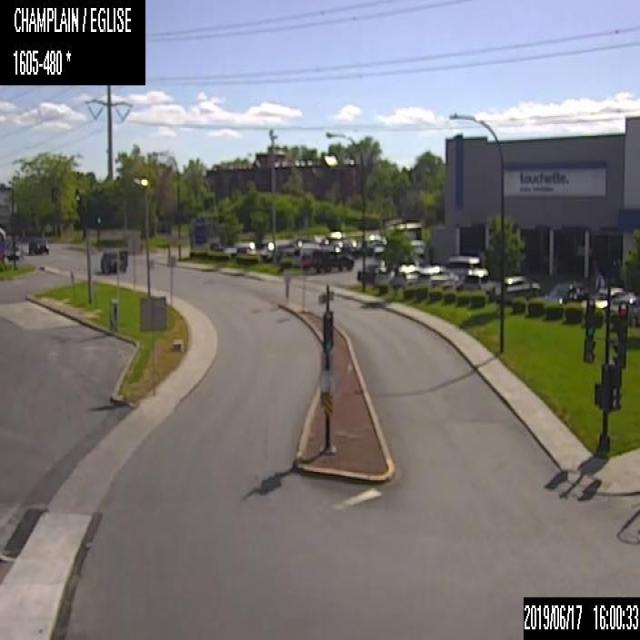pedestrian: (595, 269, 604, 290)
vehicle: (582, 284, 624, 312), (542, 280, 588, 305), (312, 244, 353, 272), (446, 255, 488, 280), (503, 274, 541, 300), (463, 267, 494, 297), (611, 292, 639, 324), (429, 268, 463, 291), (100, 248, 127, 272), (414, 264, 443, 286), (392, 264, 419, 287), (375, 262, 402, 284), (299, 242, 319, 266), (251, 239, 272, 260), (274, 240, 294, 262), (356, 262, 378, 282), (226, 243, 254, 258), (28, 238, 49, 254), (372, 242, 384, 258)
